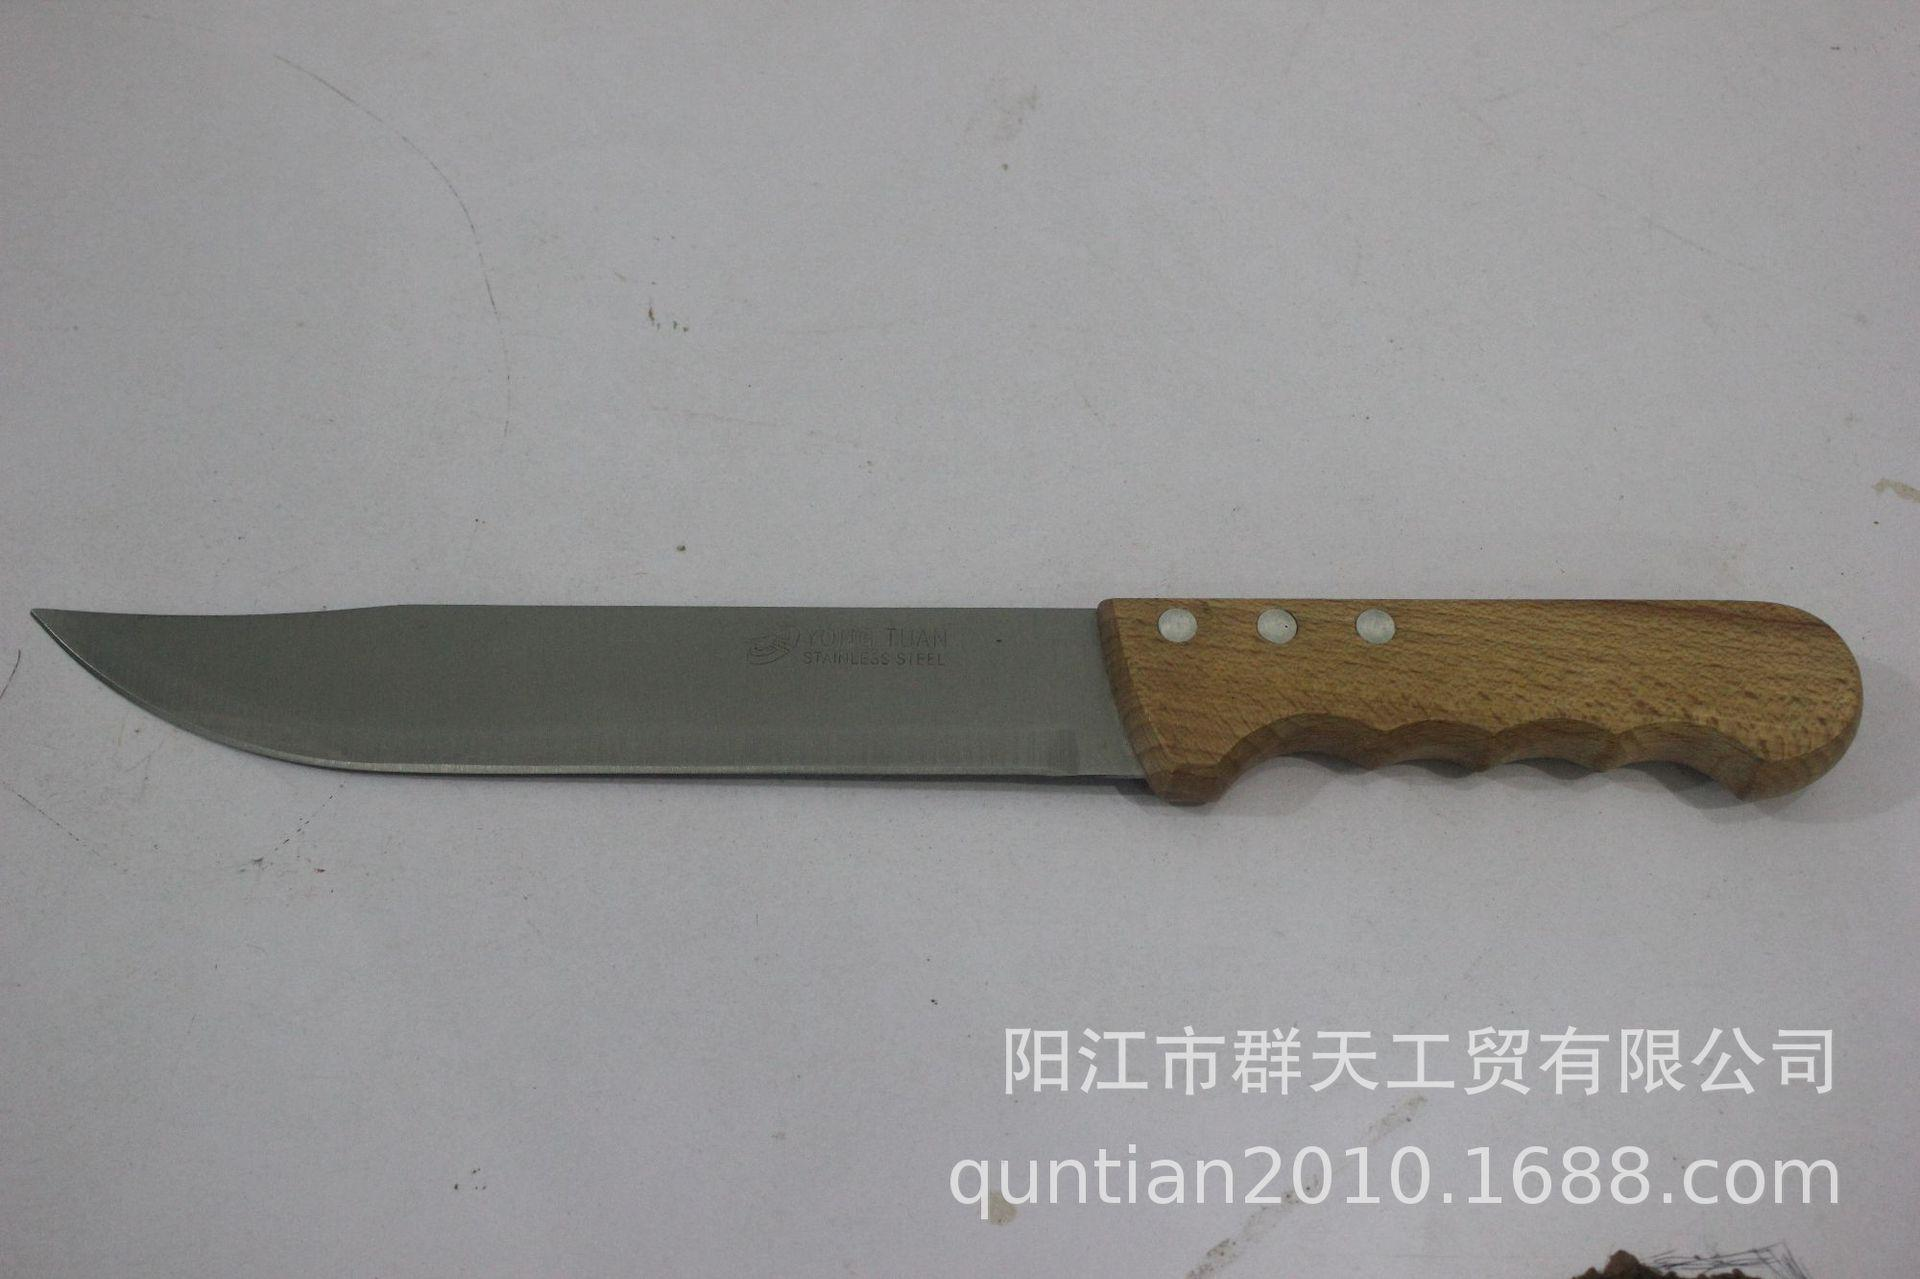knife: (11, 430, 1896, 1005)
